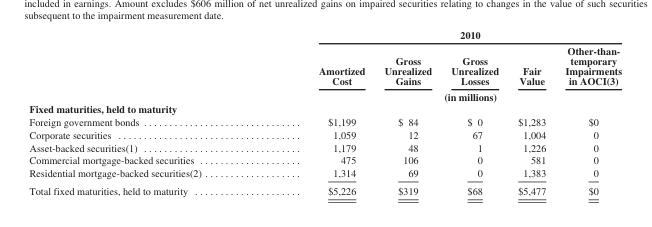table: (28, 28, 621, 196)
table column: (28, 28, 259, 196), (259, 28, 374, 196), (440, 28, 507, 196), (554, 28, 621, 196), (374, 28, 440, 196), (507, 28, 554, 196)
table column header: (28, 28, 621, 102)
table projected row header: (28, 102, 621, 115)
table row: (28, 42, 621, 88), (28, 166, 621, 181), (28, 181, 621, 196), (28, 28, 621, 42), (28, 88, 621, 102), (28, 102, 621, 115), (28, 127, 621, 140), (28, 140, 621, 153), (28, 153, 621, 166), (28, 115, 621, 127)
table spanning cell: (259, 28, 621, 42), (259, 88, 621, 102)
